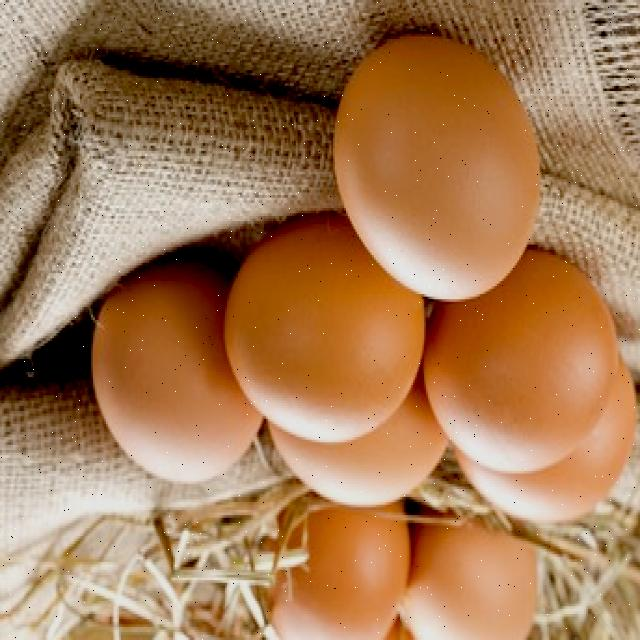Brown Egg: (327, 28, 541, 307), (417, 252, 617, 474), (224, 231, 430, 443), (88, 256, 262, 484), (270, 383, 450, 507), (264, 500, 413, 640), (407, 528, 536, 640)
